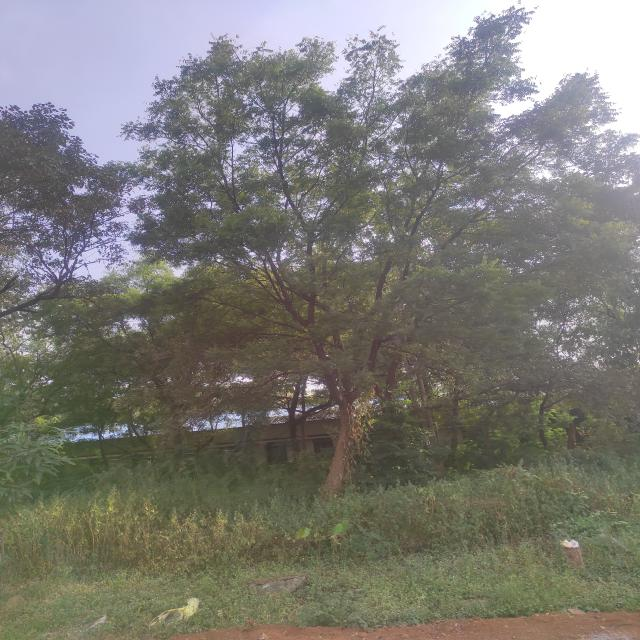Neem Tree: (85, 49, 615, 495)
